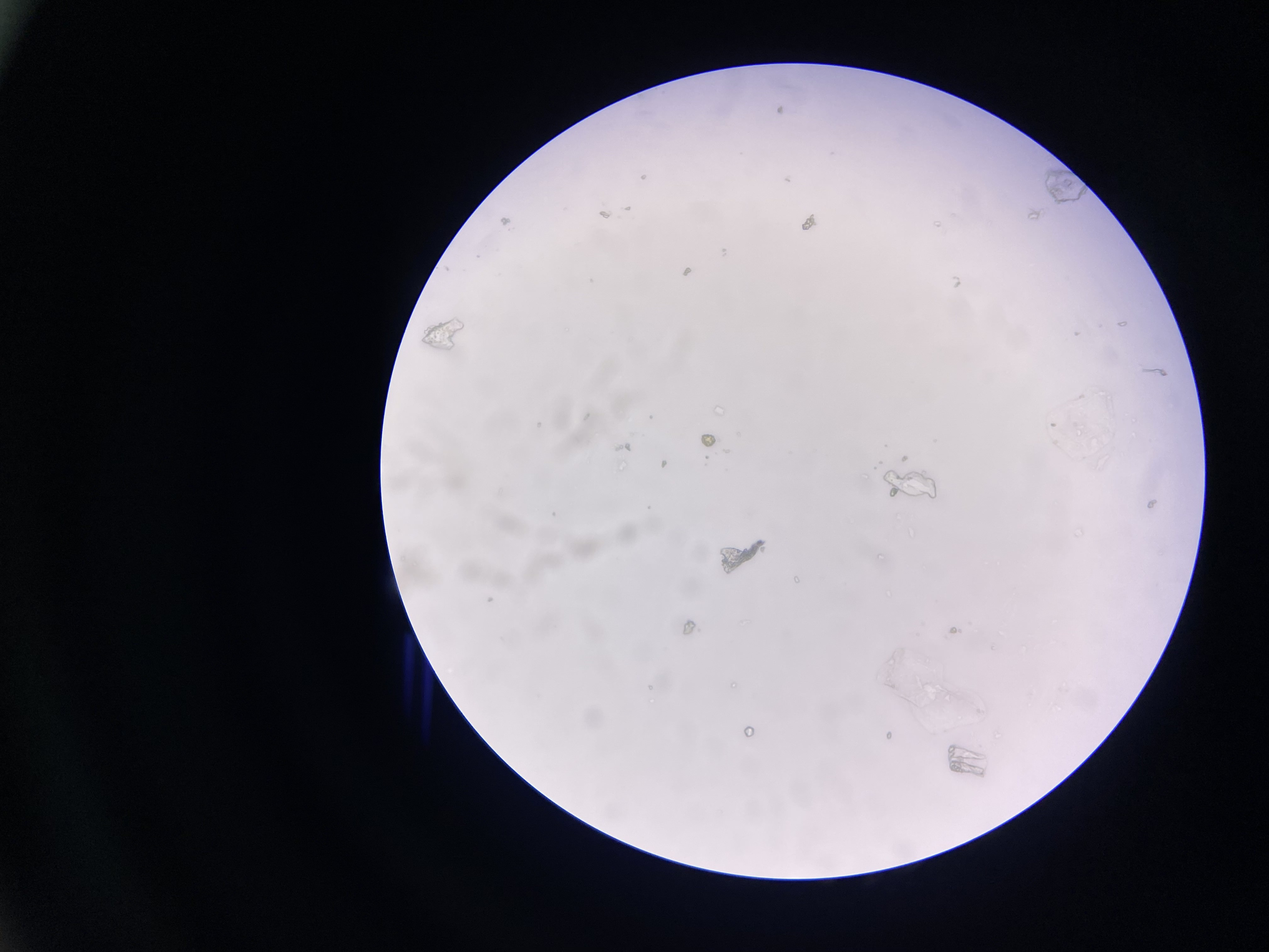not_microplastic: (872, 644, 994, 735), (1041, 383, 1121, 477), (882, 466, 943, 502), (1042, 168, 1090, 209), (718, 538, 768, 574), (421, 315, 467, 350), (947, 745, 989, 778), (1142, 362, 1168, 381), (743, 723, 761, 742), (1144, 495, 1160, 513), (801, 216, 816, 232), (501, 215, 516, 231), (713, 406, 730, 420), (701, 432, 713, 450), (682, 620, 697, 634), (677, 267, 692, 277)
